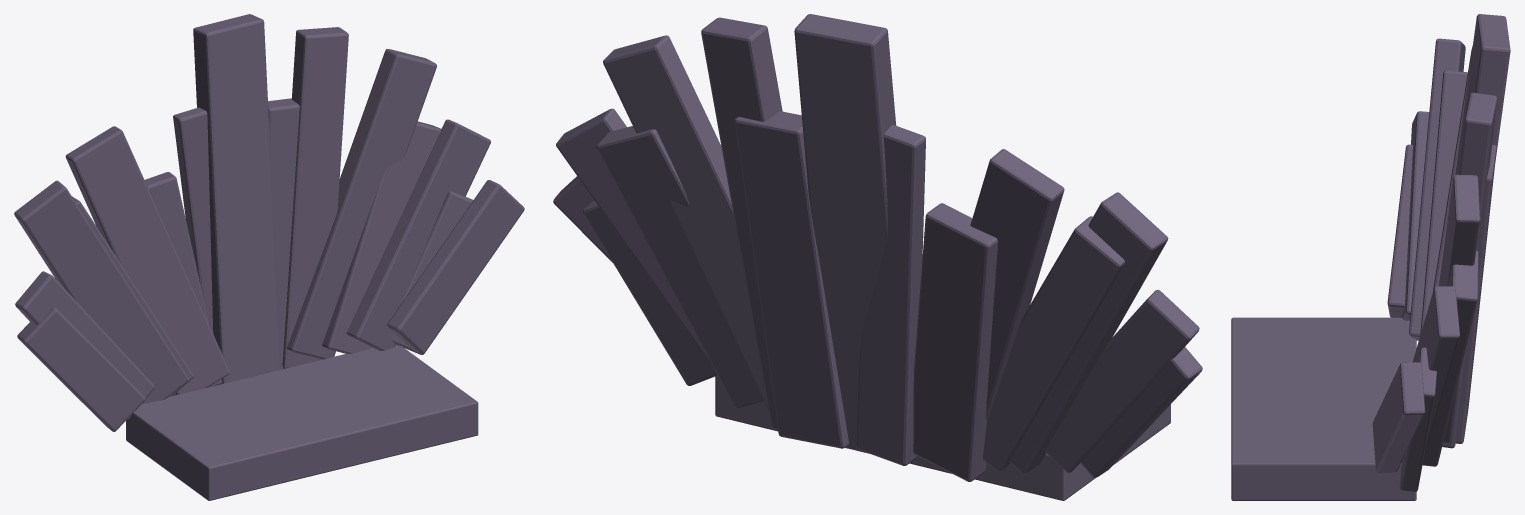
Rendered from Throne_Stone.fbx.
The picture shows the model from 3 angles, left to right: view 1: azimuth 30°, elevation 25°; view 2: azimuth 150°, elevation 25°; view 3: azimuth 270°, elevation 25°; orthographic projection. The views are drawn at different scales.
Visible parts, largest first — view 1: DaisTop.001; view 2: DaisTop.001; view 3: DaisTop.001.
Part boxes in pixels (left/top/right/bottom): DaisTop.001: left=14, top=14, right=524, bottom=500; DaisTop.001: left=553, top=14, right=1202, bottom=500; DaisTop.001: left=1231, top=14, right=1510, bottom=500.
Bounding box in the file's own units: 5531 × 3820 × 2412.
